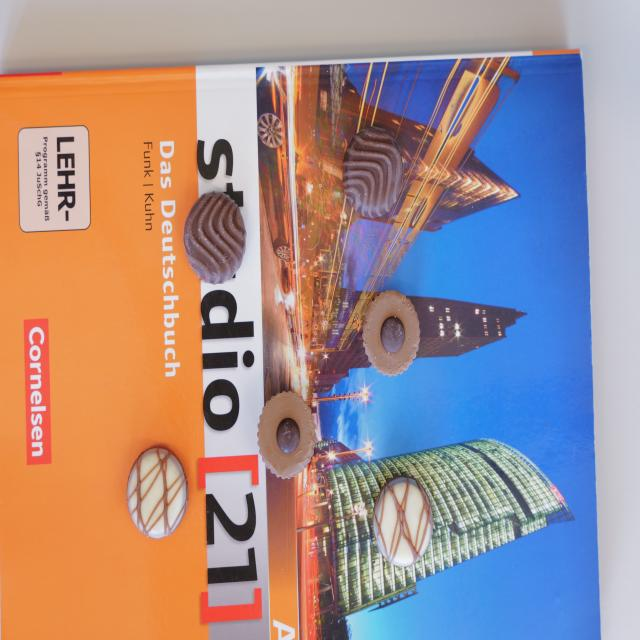Creme_brulee: (126, 446, 188, 540), (373, 476, 432, 567)
Noblesse: (256, 389, 316, 481), (363, 289, 420, 378)
Noir_authentique: (184, 193, 247, 286), (343, 128, 404, 219)
